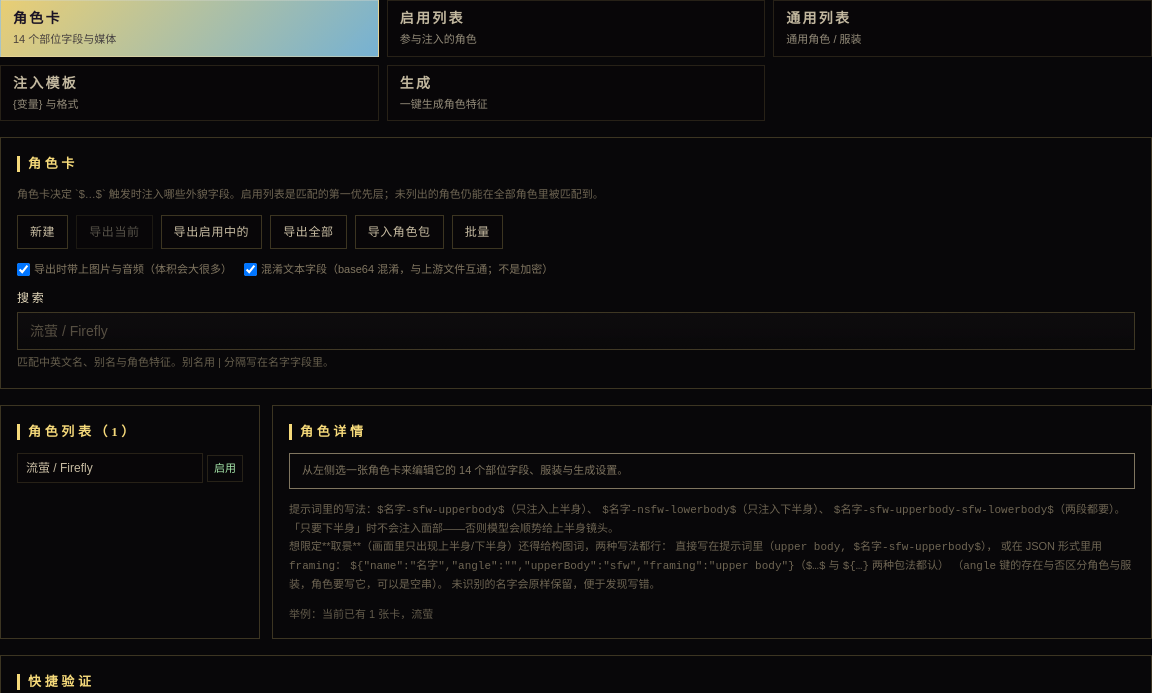
Scenario: 角色管理面板 › 存着的名字不在列表里时，选项里仍然显示它（不会看起来被清空）
This screenshot has width=1152, height=693.
Click the button "流萤 / Firefly": (110, 468) [17, 453, 203, 483]
(page scrolled)
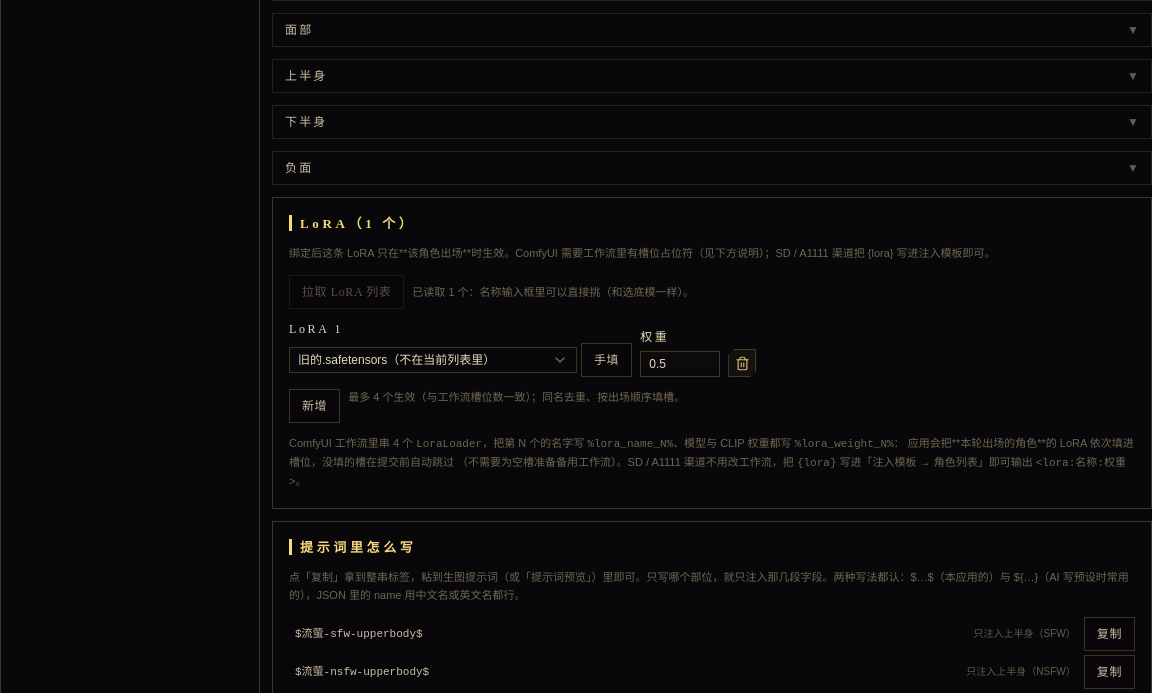
Expected: the dropdown named "LoRA 1 名称" shows "旧的.safetensors（不在当前列表里）", [289, 347, 577, 373]
